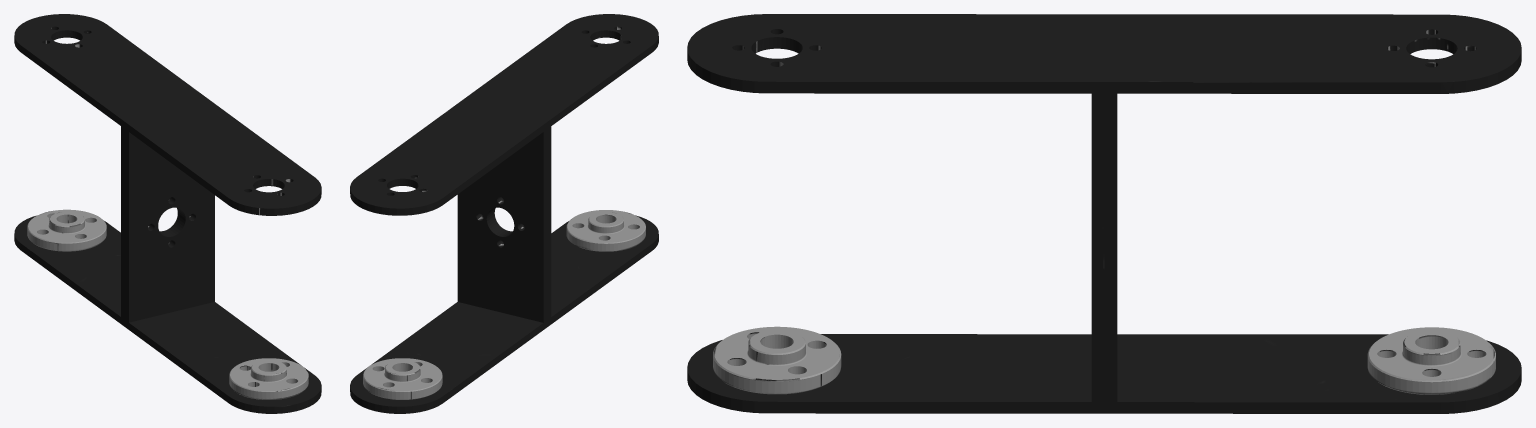
3 renders of one model, left to right at view 1: azimuth 30°, elevation 25°; view 2: azimuth 150°, elevation 25°; view 3: azimuth 270°, elevation 25°, orthographic. The views are drawn at different scales.
Parts seen in each view (by area): view 1: link2; view 2: link2; view 3: link2.
Part boxes in pixels (box(x1,y1,x2,y2)): link2: box(14, 14, 321, 413); link2: box(350, 14, 658, 413); link2: box(687, 14, 1521, 413).
Bounding box in the file's own units: 0.0252 × 0.13 × 0.057.
Materials: 1 (1 with a texture image).
